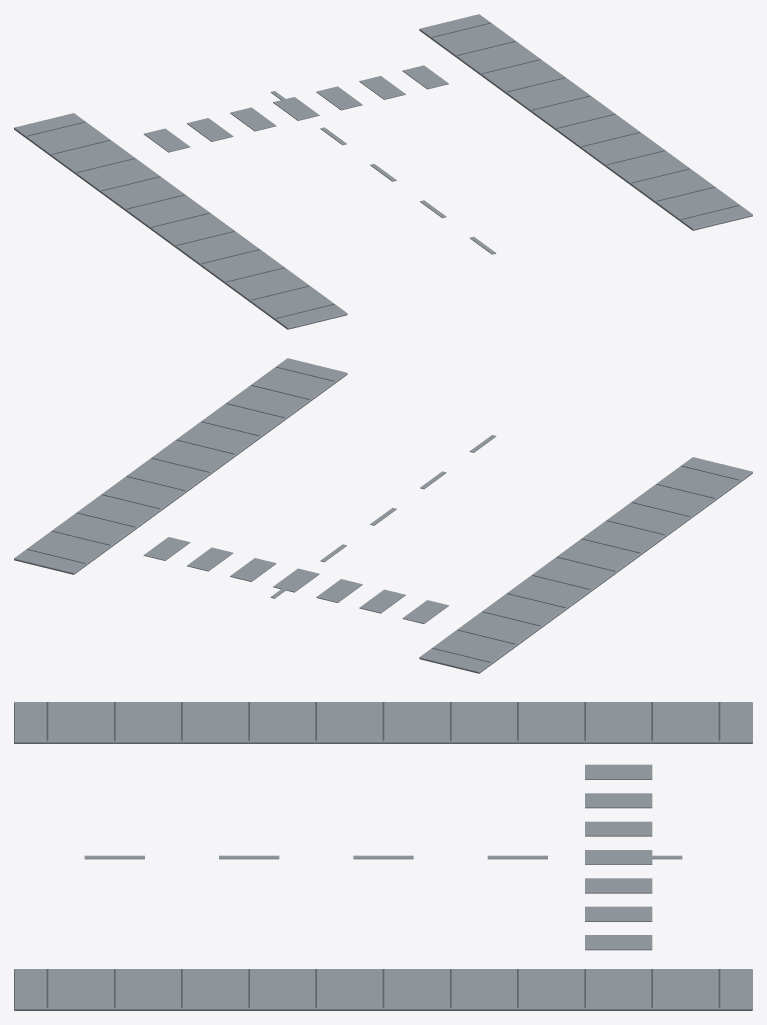
File: 0_Room.fbx
3 renders of one model, top to bottom at view 1: azimuth 30°, elevation 25°; view 2: azimuth 150°, elevation 25°; view 3: azimuth 270°, elevation 25°, orthographic. The views are drawn at different scales.
Parts seen in each view (by area): view 1: Body; view 2: Body; view 3: Body.
Boxes of the visible parts, <box> form: Body: <box>14,14,752,329</box>; Body: <box>14,358,752,673</box>; Body: <box>14,702,752,1010</box>.
Bounding box in the file's own units: 10.8 × 0.056 × 11.
